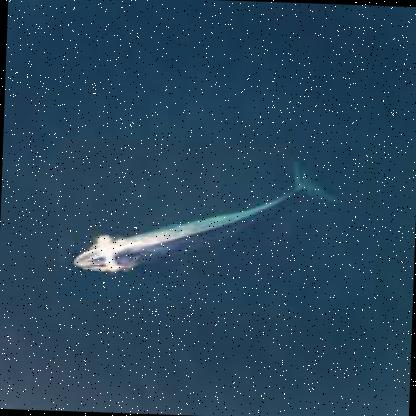blue_whale: (56, 138, 379, 312)
